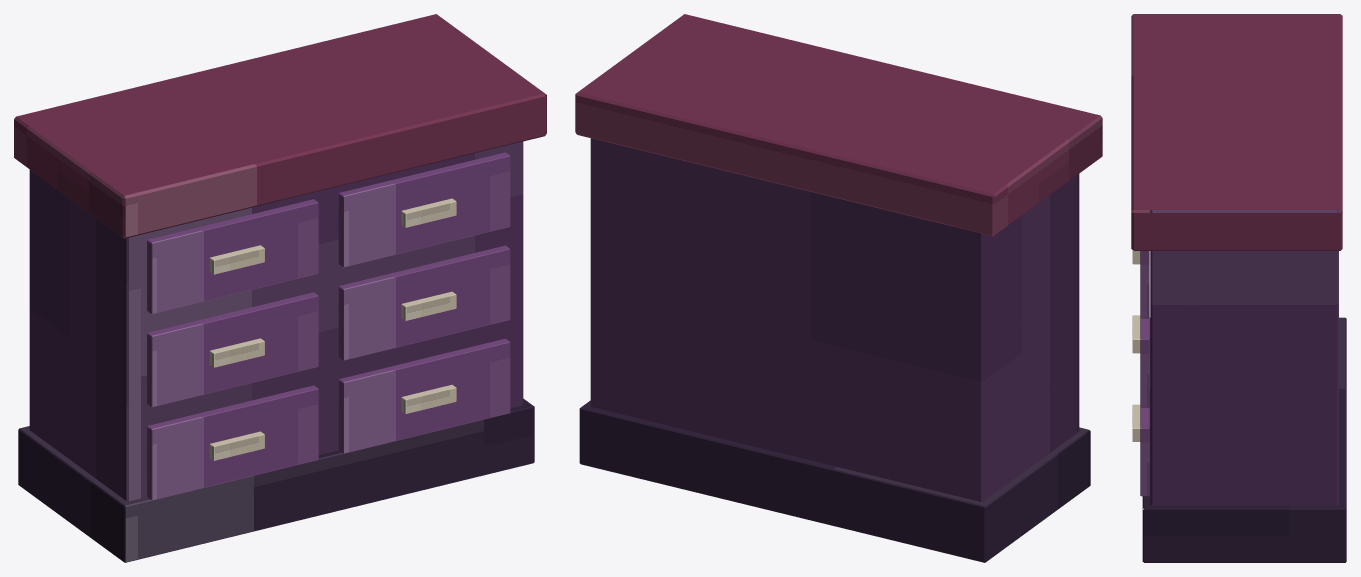
File: bedroom_dresser_violet.glb
3 views of the same model, side by side, from view 1: azimuth 30°, elevation 25°; view 2: azimuth 150°, elevation 25°; view 3: azimuth 270°, elevation 25° (orthographic). The views are drawn at different scales.
Visible parts, largest first — view 1: DresserTop, DresserBody, DresserPlinth, DresserDrawer_2_2, DresserDrawer_1_2, DresserDrawer_3_2, DresserDrawer_3_1, DresserDrawer_1_1, DresserDrawer_2_1, DresserHandle_1_1, DresserHandle_2_1, DresserHandle_3_1 (+3 smaller); view 2: DresserBody, DresserTop, DresserPlinth; view 3: DresserTop, DresserBody, DresserPlinth, DresserDrawer_2_2, DresserDrawer_3_2, DresserDrawer_1_2, DresserHandle_2_2, DresserHandle_3_2.
Part boxes in pixels (left/top/right/bottom): DresserTop: left=14, top=14, right=546, bottom=238; DresserBody: left=29, top=141, right=523, bottom=506; DresserPlinth: left=18, top=398, right=534, bottom=562; DresserDrawer_2_2: left=338, top=245, right=510, bottom=360; DresserDrawer_1_2: left=338, top=152, right=510, bottom=267; DresserDrawer_3_2: left=338, top=338, right=510, bottom=453; DresserDrawer_3_1: left=147, top=385, right=318, bottom=500; DresserDrawer_1_1: left=147, top=199, right=318, bottom=314; DresserDrawer_2_1: left=147, top=292, right=318, bottom=407; DresserHandle_1_1: left=209, top=245, right=264, bottom=274; DresserHandle_2_1: left=209, top=338, right=264, bottom=367; DresserHandle_3_1: left=209, top=431, right=264, bottom=460; DresserBody: left=590, top=138, right=1079, bottom=507; DresserTop: left=575, top=14, right=1102, bottom=236; DresserPlinth: left=579, top=400, right=1090, bottom=562; DresserTop: left=1131, top=14, right=1342, bottom=250; DresserBody: left=1150, top=210, right=1338, bottom=505; DresserPlinth: left=1142, top=317, right=1346, bottom=562; DresserDrawer_2_2: left=1140, top=318, right=1149, bottom=407; DresserDrawer_3_2: left=1140, top=407, right=1149, bottom=496; DresserDrawer_1_2: left=1140, top=251, right=1149, bottom=318; DresserHandle_2_2: left=1132, top=316, right=1140, bottom=353; DresserHandle_3_2: left=1132, top=404, right=1140, bottom=441.
Bounding box in the file's own units: 1.24 × 1.04 × 0.57.
1 material, 1 textured.
